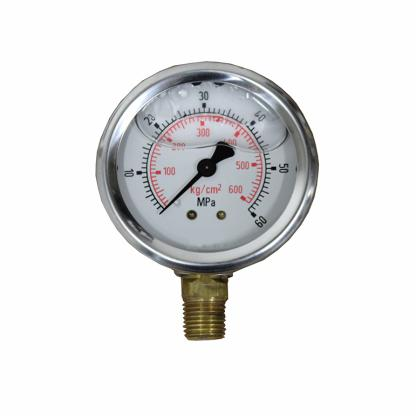needle: (158, 172, 203, 216)
